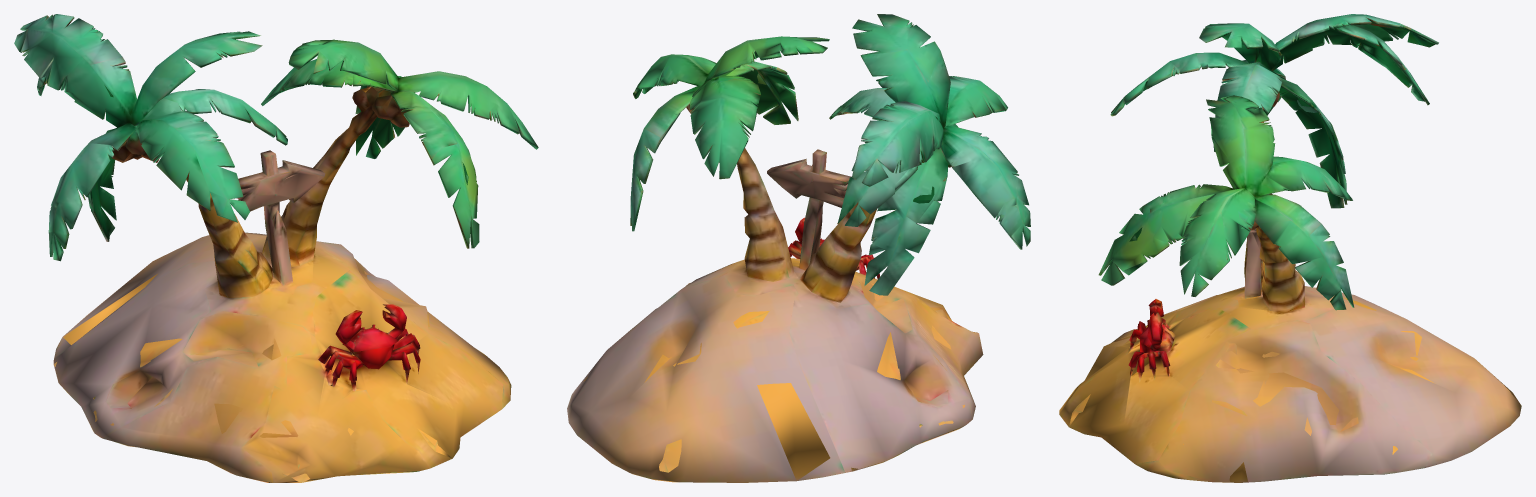
File: tile_plage.glb
The picture shows the model from 3 angles, left to right: view 1: azimuth 30°, elevation 25°; view 2: azimuth 150°, elevation 25°; view 3: azimuth 270°, elevation 25°; orthographic projection. The views are drawn at different scales.
Parts seen in each view (by area): view 1: node_0; view 2: node_0; view 3: node_0.
Boxes of the visible parts, x1,y1,x2,y2 form: node_0: (14,14,538,482); node_0: (567,14,1030,482); node_0: (1059,14,1521,482).
Size of the model in its own units: 0.9142 by 0.7504 by 0.9239.
Materials: 1 (1 with a texture image).
